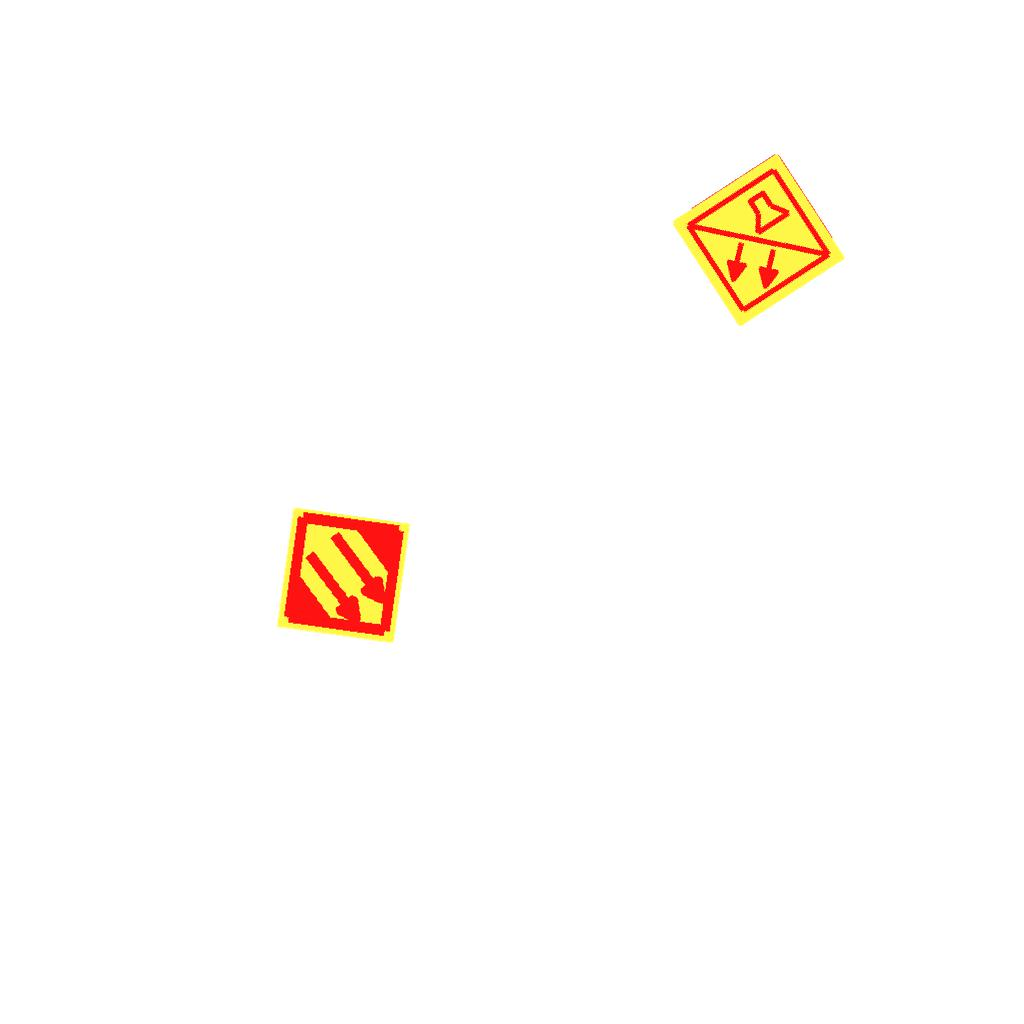ASR_Ansaugrauchmelder: (272, 504, 415, 647)
OKW_Multisensormelder_(Kombination_optischer_Rauch-Kahlenmonoxid_Waerme-Melder): (666, 148, 850, 332)
